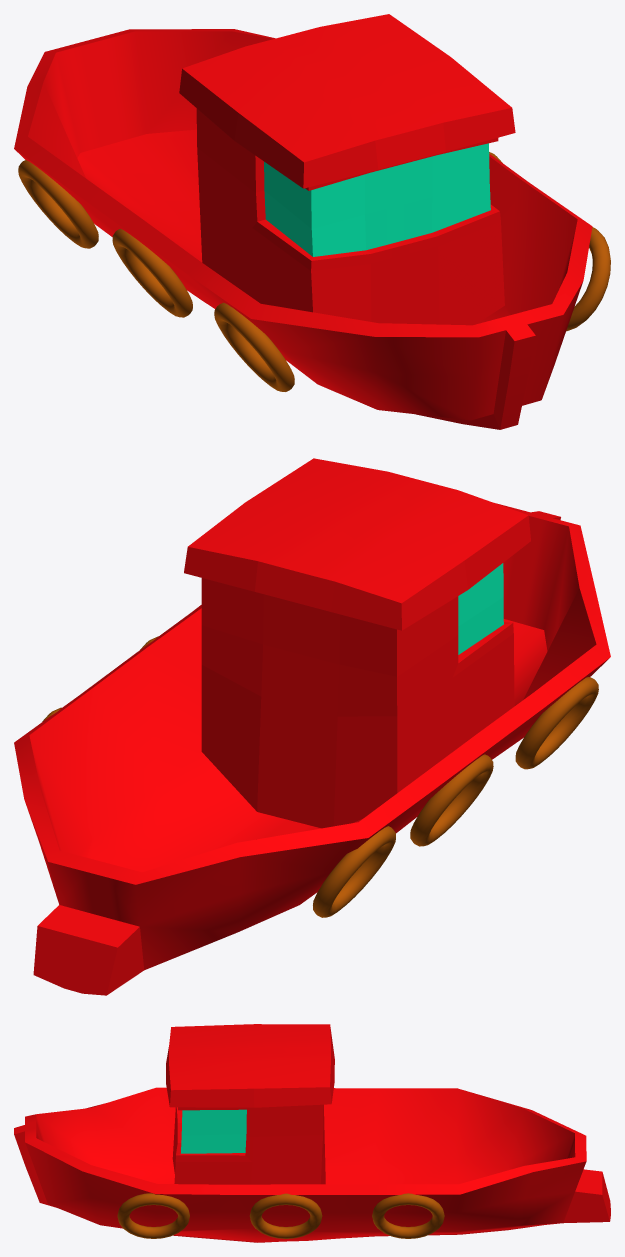
The model's file is MOD_Bateau.FBX.
The picture shows the model from 3 angles, top to bottom: view 1: azimuth 30°, elevation 25°; view 2: azimuth 150°, elevation 25°; view 3: azimuth 270°, elevation 25°; orthographic projection. The views are drawn at different scales.
Parts seen in each view (by area): view 1: Bateau001, Torus014, Torus013, Torus012, Torus009; view 2: Bateau001, Torus014, Torus012, Torus013; view 3: Bateau001, Torus009, Torus011, Torus010.
Part boxes in pixels (x1=…): Bateau001: x1=14, y1=14, x2=592, y2=429; Torus014: x1=214, y1=302, x2=294, y2=391; Torus013: x1=112, y1=228, x2=192, y2=317; Torus012: x1=18, y1=160, x2=98, y2=248; Torus009: x1=566, y1=227, x2=610, y2=331; Bateau001: x1=14, y1=458, x2=610, y2=995; Torus014: x1=515, y1=677, x2=598, y2=769; Torus012: x1=313, y1=826, x2=395, y2=917; Torus013: x1=410, y1=754, x2=493, y2=846; Bateau001: x1=14, y1=1024, x2=610, y2=1242; Torus009: x1=117, y1=1193, x2=189, y2=1238; Torus011: x1=372, y1=1193, x2=444, y2=1238; Torus010: x1=249, y1=1193, x2=322, y2=1238.
Size of the model in its own units: 21.69 by 17.23 by 49.36.
